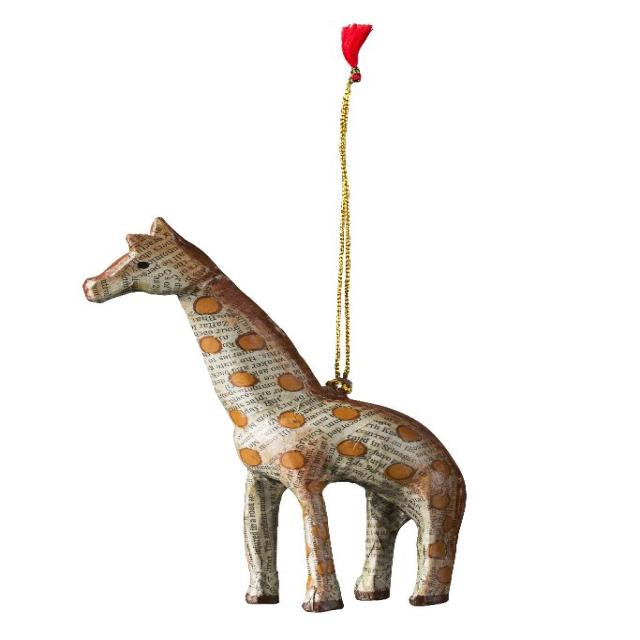Toy: (82, 23, 466, 612)
